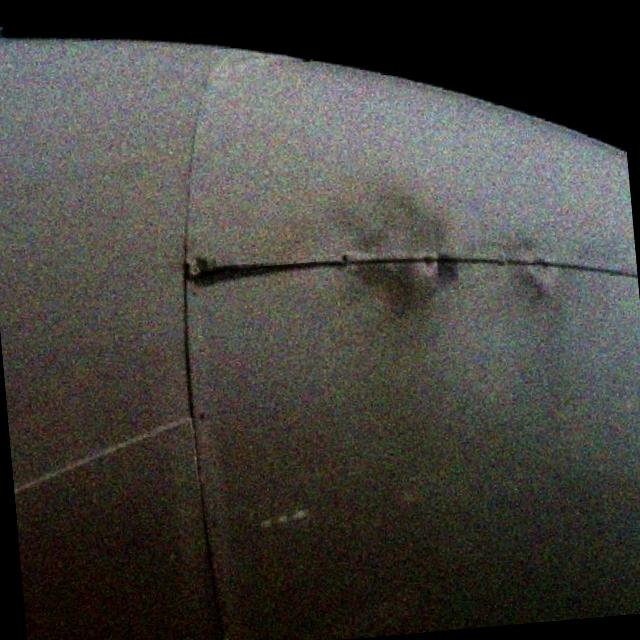crack: (190, 249, 344, 282)
